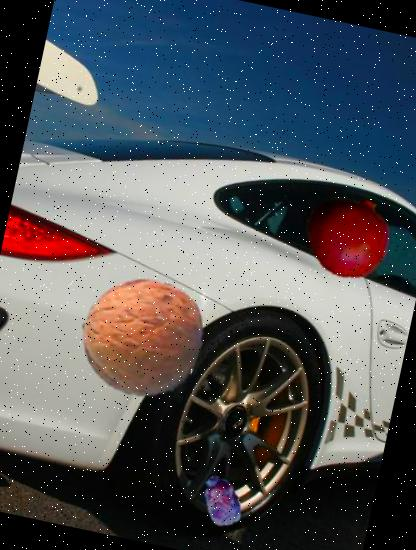Dates: (191, 470, 252, 532)
Pomegranate: (296, 185, 398, 287)
Walnut: (69, 265, 213, 409)
